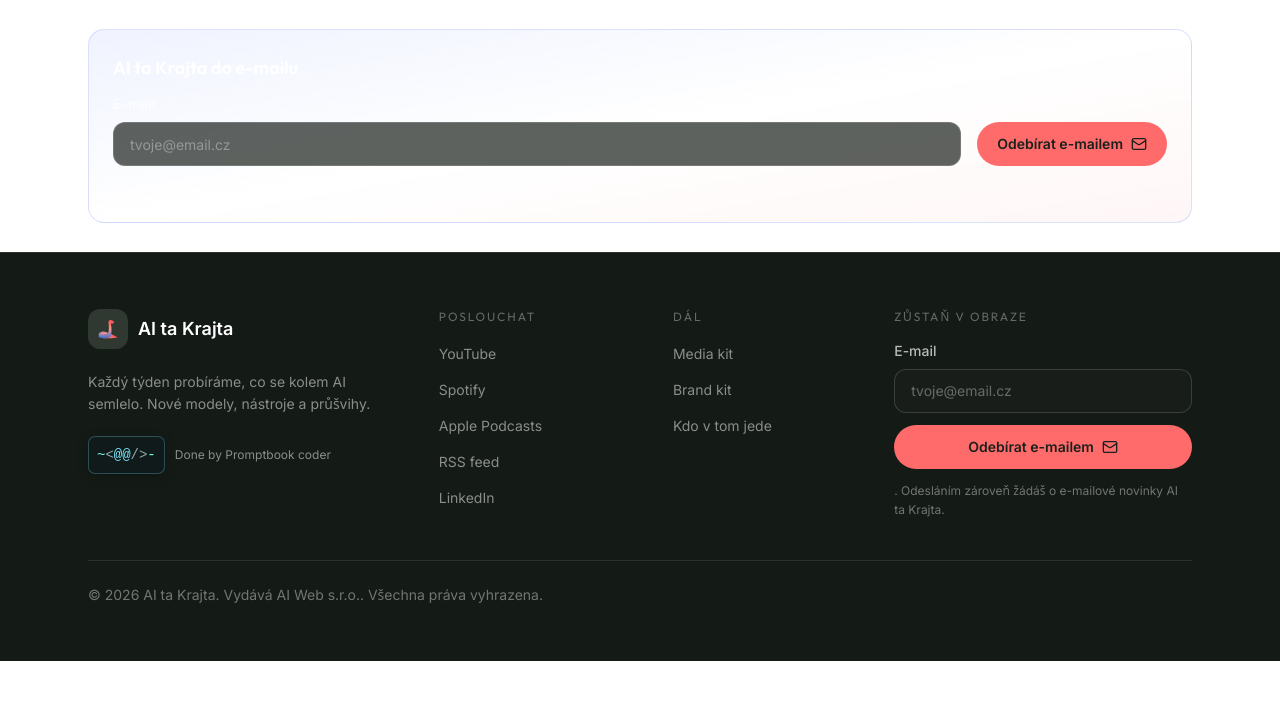
Test: AI ta Krajta email subscription form › lets the footer subscribe independently of the episode-page form
Expected: the form "Zůstaň v obraze" is shown, [894,308,1192,520]
In the field labelled "E-mail" below "Zůstaň v obraze": (1043, 390) [894,368,1192,412], type "footer-listener@example.com"
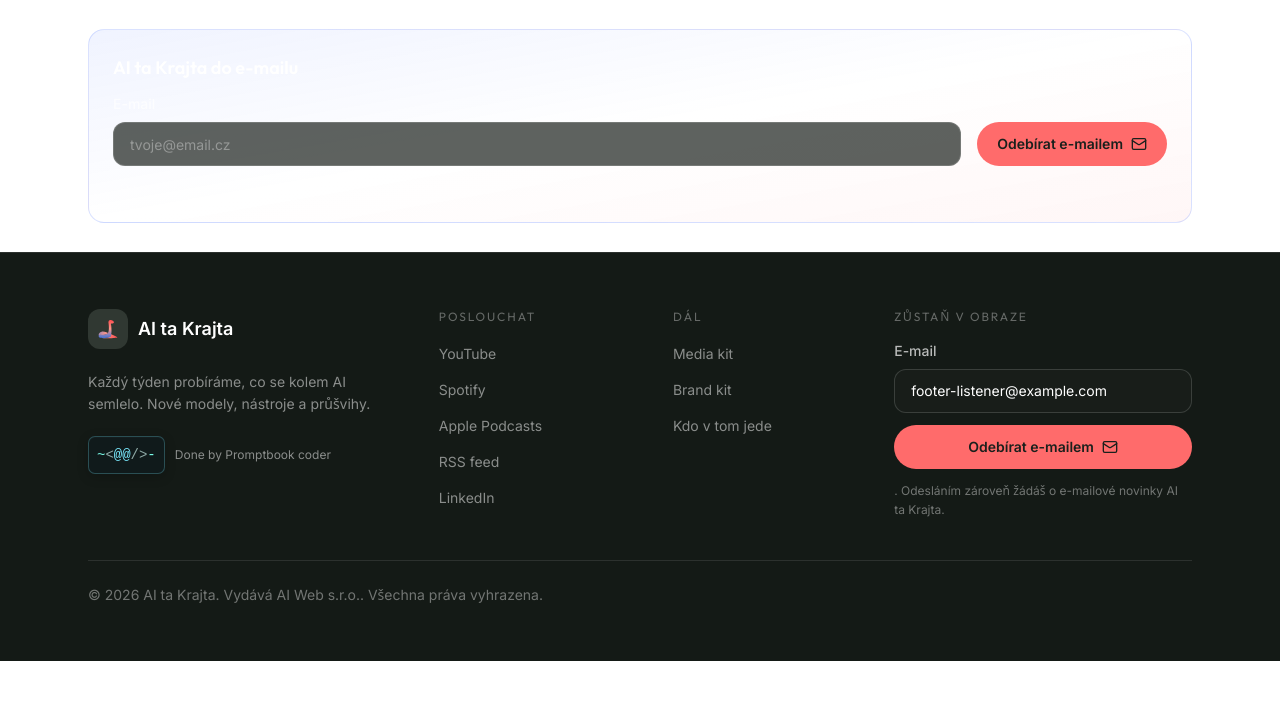
Submit the form "Zůstaň v obraze", box [894,308,1192,520]
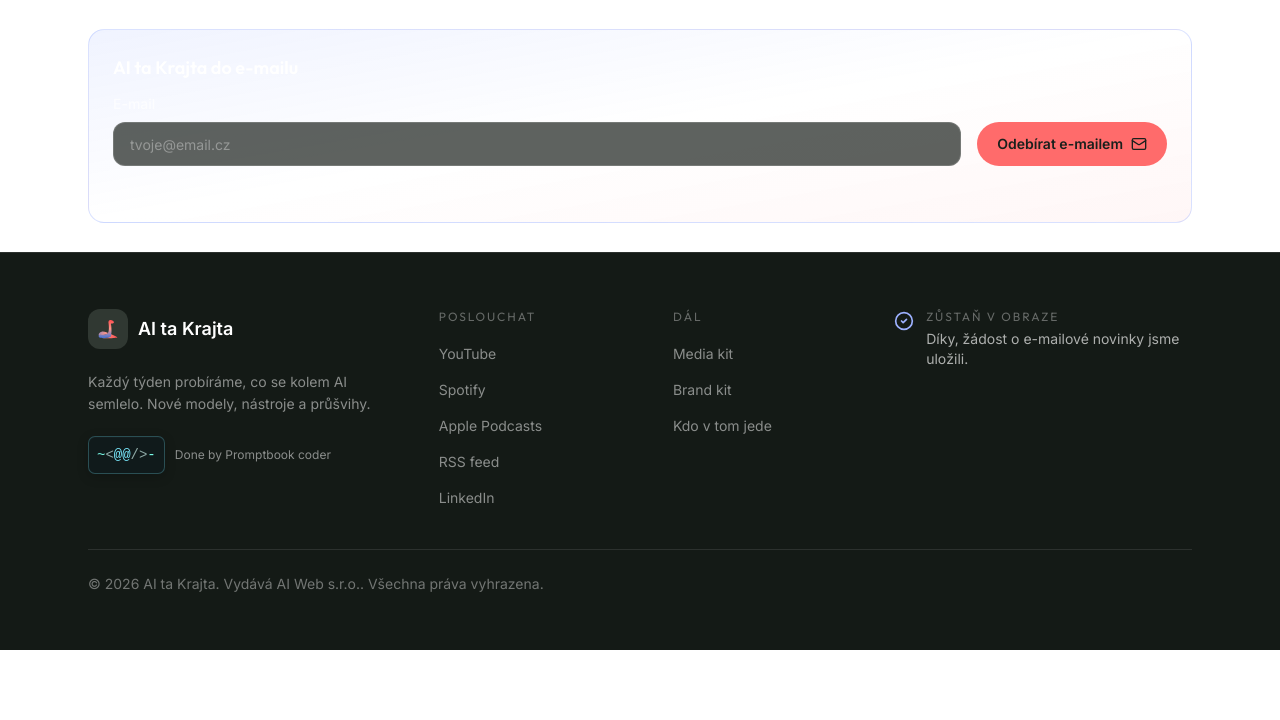
Expected: the field labelled "E-mail" is empty, [113,122,961,166]
Now the message shows "žádost o e-mailové novinky jsme uložili", box [926,330,1179,366]
